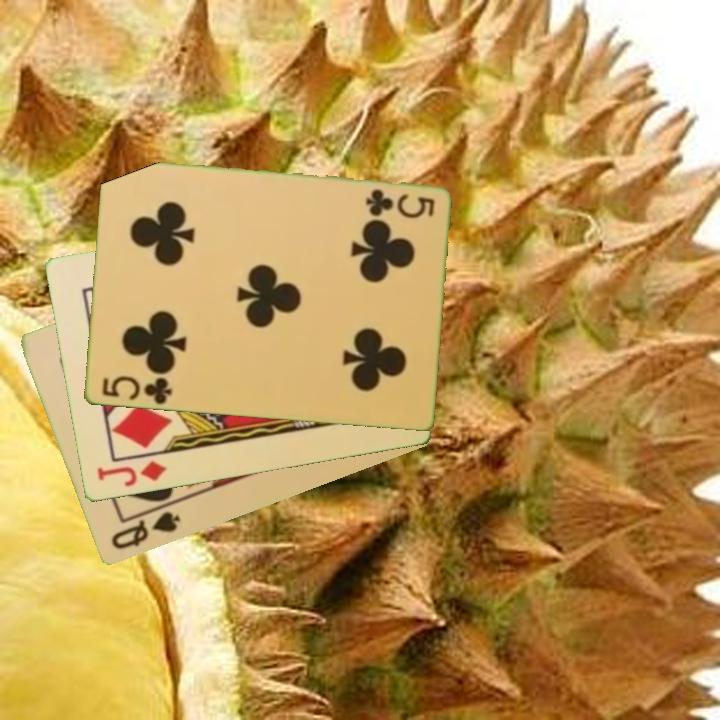5c: (361, 186, 437, 221), (98, 373, 175, 407)
Jd: (93, 457, 169, 490)
Qs: (107, 508, 184, 553)
